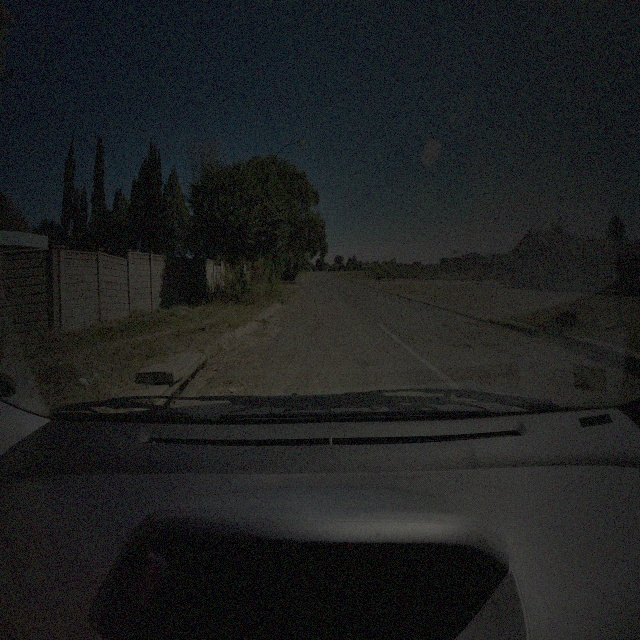pothole: (537, 364, 587, 388), (483, 341, 504, 353), (456, 342, 474, 353), (465, 320, 481, 328), (511, 352, 524, 360)
